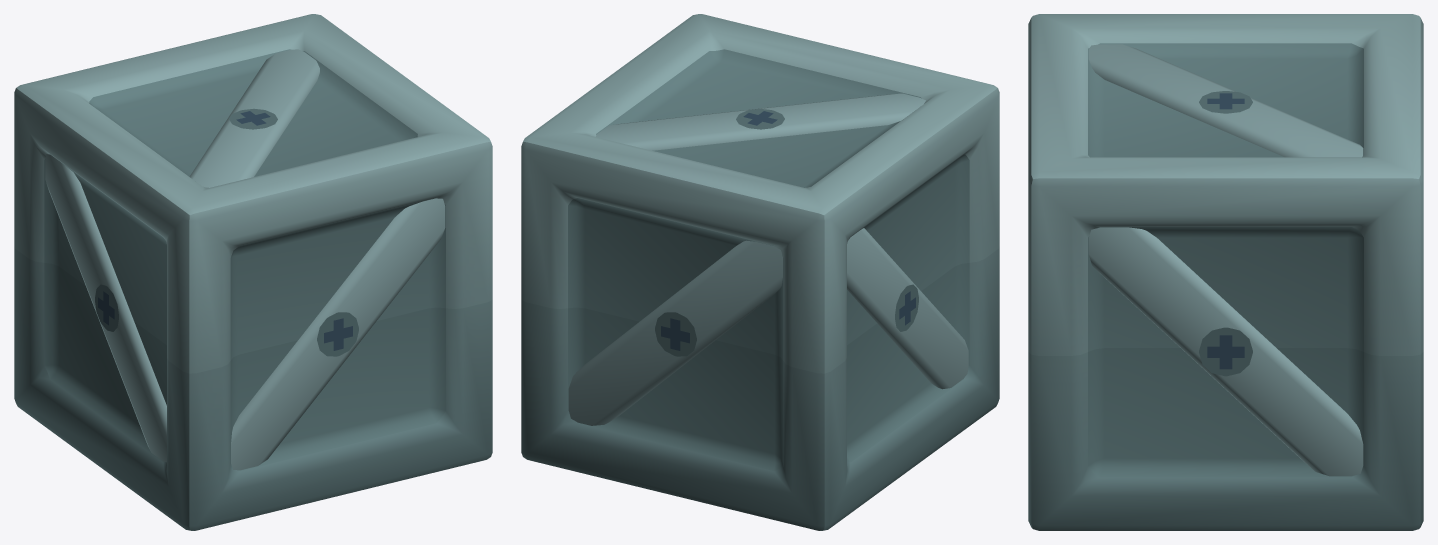
File: CrateMetal.fbx
The picture shows the model from 3 angles, left to right: view 1: azimuth 30°, elevation 25°; view 2: azimuth 150°, elevation 25°; view 3: azimuth 270°, elevation 25°; orthographic projection. The views are drawn at different scales.
Parts seen in each view (by area): view 1: Crate_Metal; view 2: Crate_Metal; view 3: Crate_Metal.
Part boxes in pixels (x1,y1,x2,y2): Crate_Metal: [14, 14, 492, 530]; Crate_Metal: [521, 14, 999, 530]; Crate_Metal: [1028, 14, 1423, 530].
Size of the model in its own units: 200 by 200 by 200.
